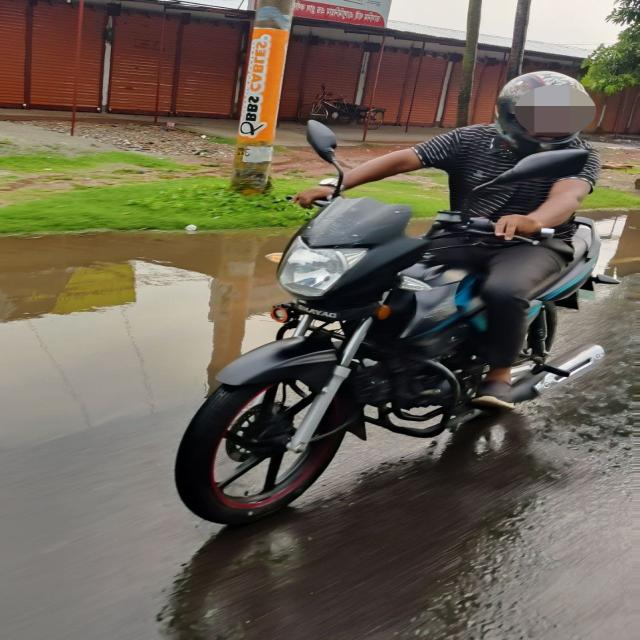Motorbike: (117, 158, 640, 548)
